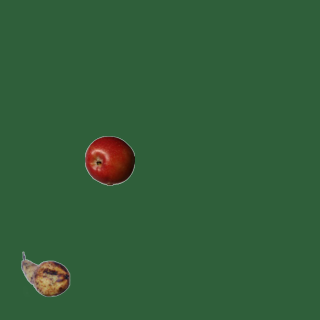Apple Braeburn: (84, 135, 134, 185)
Pear Abate: (20, 249, 70, 299)
